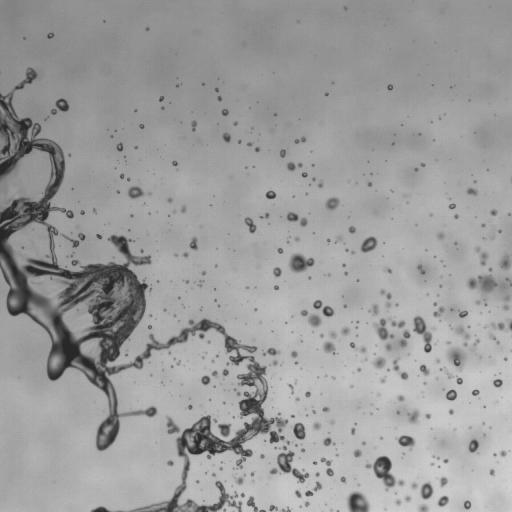droplet: (366, 456, 404, 490), (373, 317, 410, 347), (466, 274, 496, 305), (288, 253, 314, 273), (346, 491, 369, 511), (62, 233, 85, 248), (490, 318, 511, 331), (51, 98, 68, 114), (360, 236, 377, 252), (396, 435, 415, 449), (292, 422, 305, 439), (420, 482, 433, 499), (128, 186, 144, 198), (244, 217, 256, 233), (499, 254, 511, 270), (325, 197, 339, 210), (407, 409, 419, 424), (323, 341, 336, 354), (373, 356, 385, 368), (287, 162, 302, 171), (433, 306, 444, 318), (468, 439, 478, 452), (437, 495, 448, 506), (446, 389, 456, 401), (419, 364, 429, 375), (234, 474, 245, 484), (265, 190, 276, 199), (369, 304, 378, 315), (189, 237, 197, 249), (201, 375, 210, 385), (323, 437, 333, 446), (273, 267, 281, 277), (222, 133, 230, 142), (493, 379, 502, 387), (439, 477, 447, 486), (467, 188, 477, 195), (418, 504, 428, 511), (341, 327, 349, 335), (459, 310, 467, 317), (328, 331, 336, 338), (455, 376, 462, 384), (312, 422, 320, 429), (354, 449, 361, 457), (464, 500, 470, 509), (348, 226, 355, 233), (437, 232, 444, 239), (499, 450, 506, 457), (116, 143, 122, 151), (295, 490, 301, 498), (269, 505, 277, 511), (191, 121, 196, 130), (221, 109, 228, 115), (490, 209, 497, 215), (335, 236, 342, 242), (222, 369, 228, 376), (472, 389, 479, 395), (397, 395, 404, 401), (411, 482, 417, 489), (405, 495, 411, 502), (280, 149, 285, 157), (71, 260, 79, 265), (503, 304, 509, 310), (385, 344, 391, 350), (291, 351, 297, 357), (167, 460, 173, 466), (340, 476, 346, 482), (395, 499, 401, 505), (212, 370, 217, 377), (322, 406, 329, 411), (350, 427, 355, 434), (47, 33, 53, 38), (387, 84, 392, 90), (318, 181, 323, 187), (181, 206, 186, 212), (277, 248, 283, 253), (385, 301, 390, 307), (271, 360, 277, 365), (380, 377, 385, 383), (305, 391, 310, 397), (489, 469, 494, 475), (159, 96, 164, 101), (172, 161, 177, 166), (302, 172, 307, 177), (263, 213, 268, 218), (183, 252, 188, 257), (304, 501, 309, 506), (449, 204, 455, 208), (385, 268, 391, 272), (247, 142, 252, 146), (96, 234, 101, 238), (274, 285, 278, 290), (449, 409, 453, 414), (425, 414, 430, 418), (443, 459, 448, 463), (217, 96, 221, 100), (255, 147, 259, 151), (120, 174, 124, 178), (168, 198, 172, 202), (454, 214, 458, 218), (295, 237, 299, 241), (201, 271, 205, 275), (198, 281, 202, 285), (505, 296, 509, 300), (176, 361, 180, 365), (236, 391, 240, 395), (295, 397, 299, 401), (260, 454, 264, 458), (315, 472, 319, 476), (240, 493, 244, 497), (140, 124, 143, 128), (368, 182, 371, 186), (491, 235, 494, 239), (476, 300, 479, 304), (330, 420, 333, 424), (251, 472, 254, 476), (215, 88, 218, 91), (234, 122, 237, 125), (421, 163, 424, 166), (81, 211, 84, 214), (327, 239, 330, 242), (489, 268, 492, 271), (185, 280, 188, 283), (433, 302, 436, 305), (148, 325, 151, 328), (485, 324, 488, 327), (320, 334, 323, 337), (447, 341, 450, 344), (357, 368, 360, 371), (188, 405, 191, 408), (362, 441, 365, 444), (301, 448, 304, 451), (435, 456, 438, 459), (313, 461, 316, 464), (238, 140, 241, 142), (415, 168, 417, 171), (127, 178, 130, 180), (312, 178, 315, 180), (482, 224, 484, 227), (498, 230, 501, 232), (140, 250, 143, 252), (351, 251, 354, 253), (71, 253, 73, 256), (344, 272, 347, 274), (504, 358, 507, 360), (211, 360, 214, 362), (295, 361, 297, 364), (436, 360, 439, 362), (291, 414, 293, 417), (431, 462, 433, 465), (219, 467, 222, 469), (212, 473, 215, 475), (325, 93, 327, 95), (93, 210, 95, 212), (454, 242, 456, 244), (343, 264, 345, 266), (396, 303, 398, 305), (207, 341, 209, 343), (365, 358, 367, 360), (387, 369, 389, 371), (396, 411, 398, 413)
ligament: (0, 67, 302, 511), (446, 325, 469, 371), (413, 316, 432, 353), (300, 309, 321, 327), (313, 300, 334, 317), (392, 358, 408, 379), (286, 212, 307, 226), (246, 496, 265, 511), (475, 246, 488, 265), (305, 482, 322, 496), (321, 457, 333, 476), (350, 342, 366, 353), (262, 347, 279, 355), (442, 367, 453, 378), (380, 289, 391, 299), (489, 333, 499, 344), (90, 506, 111, 511), (471, 338, 479, 351), (417, 264, 425, 274), (294, 136, 305, 143), (505, 278, 511, 286), (288, 384, 293, 393), (279, 508, 291, 511), (115, 510, 124, 511), (336, 510, 339, 511)
